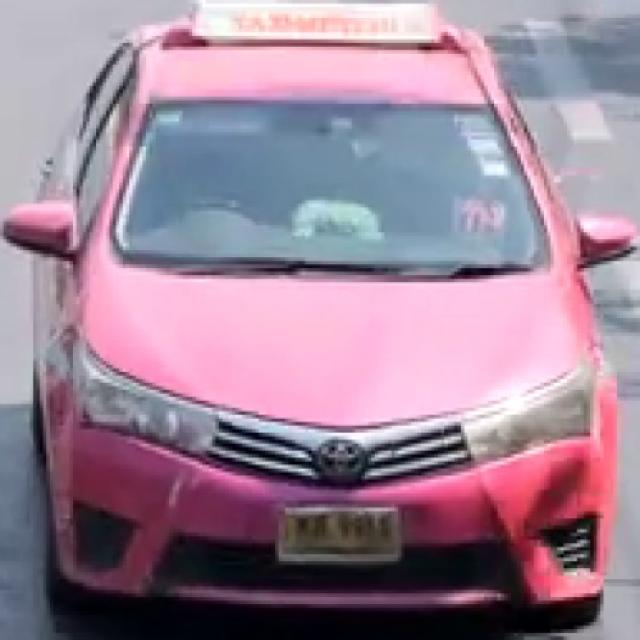plate: (282, 509, 396, 558)
